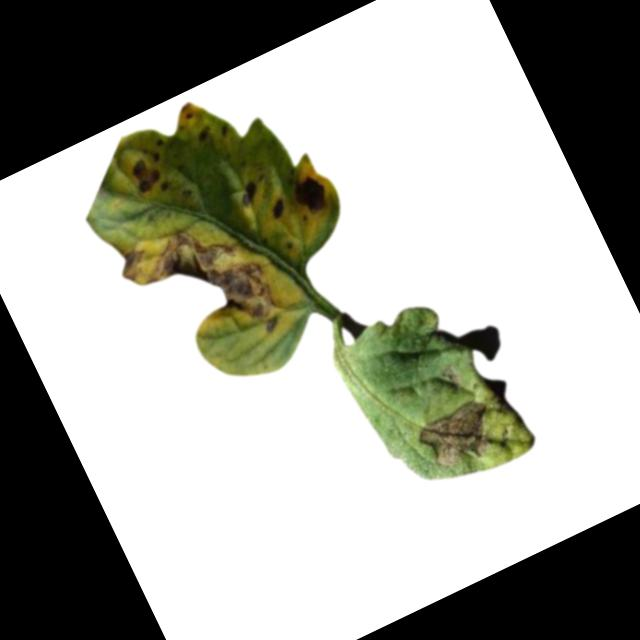Early_blight: (113, 195, 295, 382), (417, 398, 503, 475), (284, 165, 334, 221), (122, 154, 162, 199), (231, 177, 262, 210), (264, 191, 293, 223), (442, 360, 469, 392)
